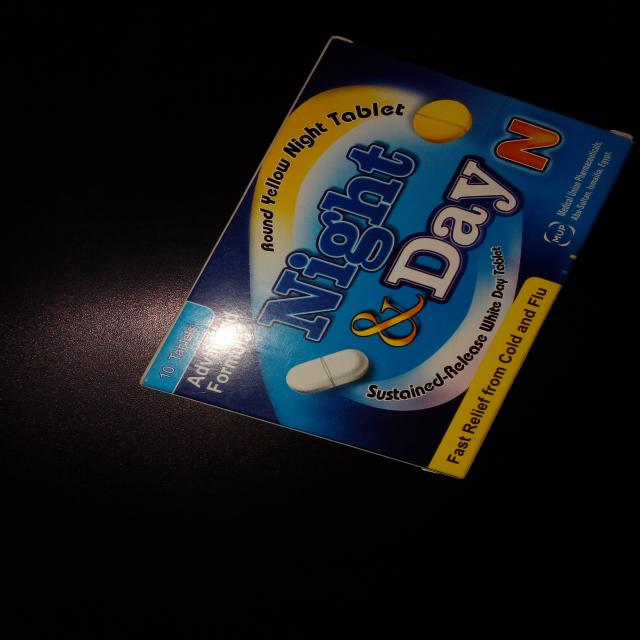Medicine: (132, 28, 635, 479)
